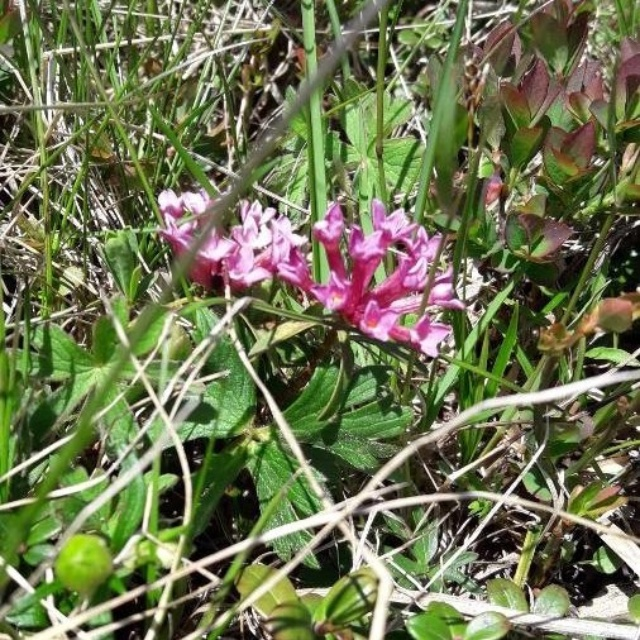obstacle: (154, 177, 507, 410), (460, 33, 608, 175)
